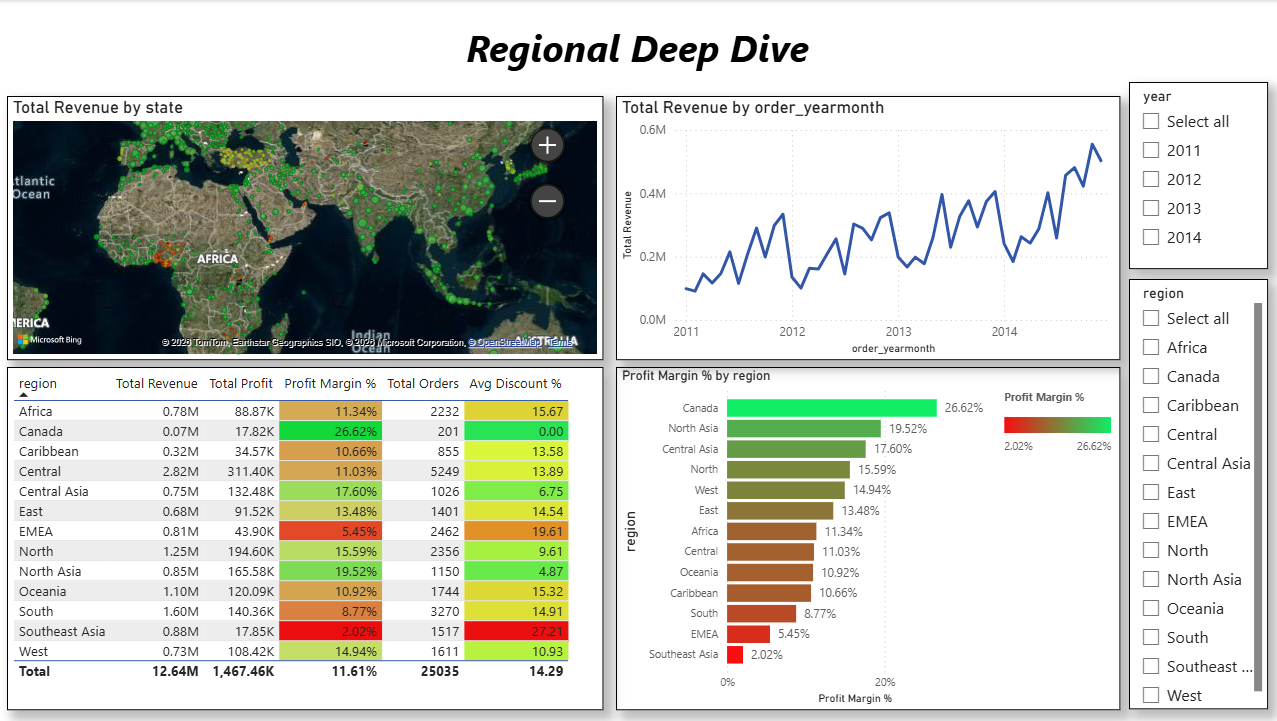

The dashboard page shown, as its layout file describes it:
{"tool":"powerbi","page":{"name":"Regional Deep Dive","canvas":[1280,720],"ordinal":1},"visuals":[{"type":"map","fields":{"Size":["superstore_clean.Total Revenue"],"Category":["superstore_clean.state"]},"box":[8,95.9,595.5,263.8],"z":0},{"type":"barChart","fields":{"Category":["superstore_clean.region"],"Y":["superstore_clean.Profit Margin %"]},"box":[616.5,366.7,503.6,342.7],"z":1000},{"type":"lineChart","fields":{"Y":["superstore_clean.Total Revenue"],"Category":["superstore_clean.order_yearmonth"]},"box":[616.5,95.9,503.6,263.8],"z":2000},{"type":"tableEx","fields":{"Values":["superstore_clean.region","superstore_clean.Total Revenue","superstore_clean.Total Profit","superstore_clean.Profit Margin %","superstore_clean.Total Orders","superstore_clean.Avg Discount %"]},"box":[8,366.7,595.5,342.7],"z":3000},{"type":"textbox","box":[8,0,1260,81.9],"z":4000},{"type":"slicer","fields":{"Values":["superstore_clean.year"]},"box":[1129.2,81.7,139.1,186.7],"z":5000},{"type":"slicer","fields":{"Values":["superstore_clean.region"]},"box":[1129.2,279.1,139.1,429.9],"z":6000}]}

Visuals, with their boxes in screenshot pixels (x1, y1, x2, y2), scaled from the page's 1280x720 canvas onto the 1277x721 screenshot:
map - superstore_clean.Total Revenue x superstore_clean.state: [left=8, top=96, right=602, bottom=360]
barChart - superstore_clean.region x superstore_clean.Profit Margin %: [left=615, top=367, right=1117, bottom=710]
lineChart - superstore_clean.Total Revenue x superstore_clean.order_yearmonth: [left=615, top=96, right=1117, bottom=360]
tableEx - superstore_clean.region x superstore_clean.Total Revenue: [left=8, top=367, right=602, bottom=710]
textbox: [left=8, top=0, right=1265, bottom=82]
slicer - superstore_clean.year: [left=1127, top=82, right=1265, bottom=269]
slicer - superstore_clean.region: [left=1127, top=279, right=1265, bottom=710]
